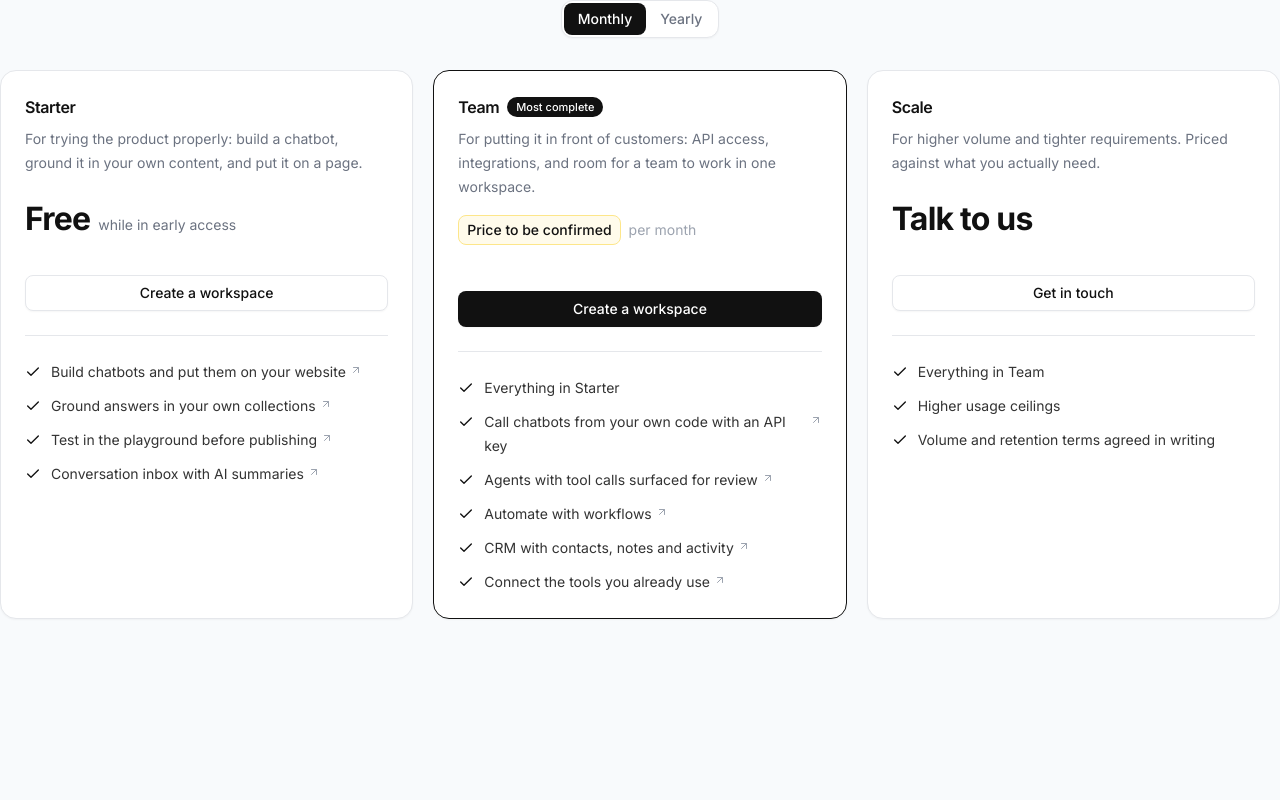
Test: pricing grid › switches the displayed interval
This screenshot has width=1280, height=800.
Click the radio button labelled "Yearly": [681, 18] box x1=660 y1=10 x2=702 y2=27
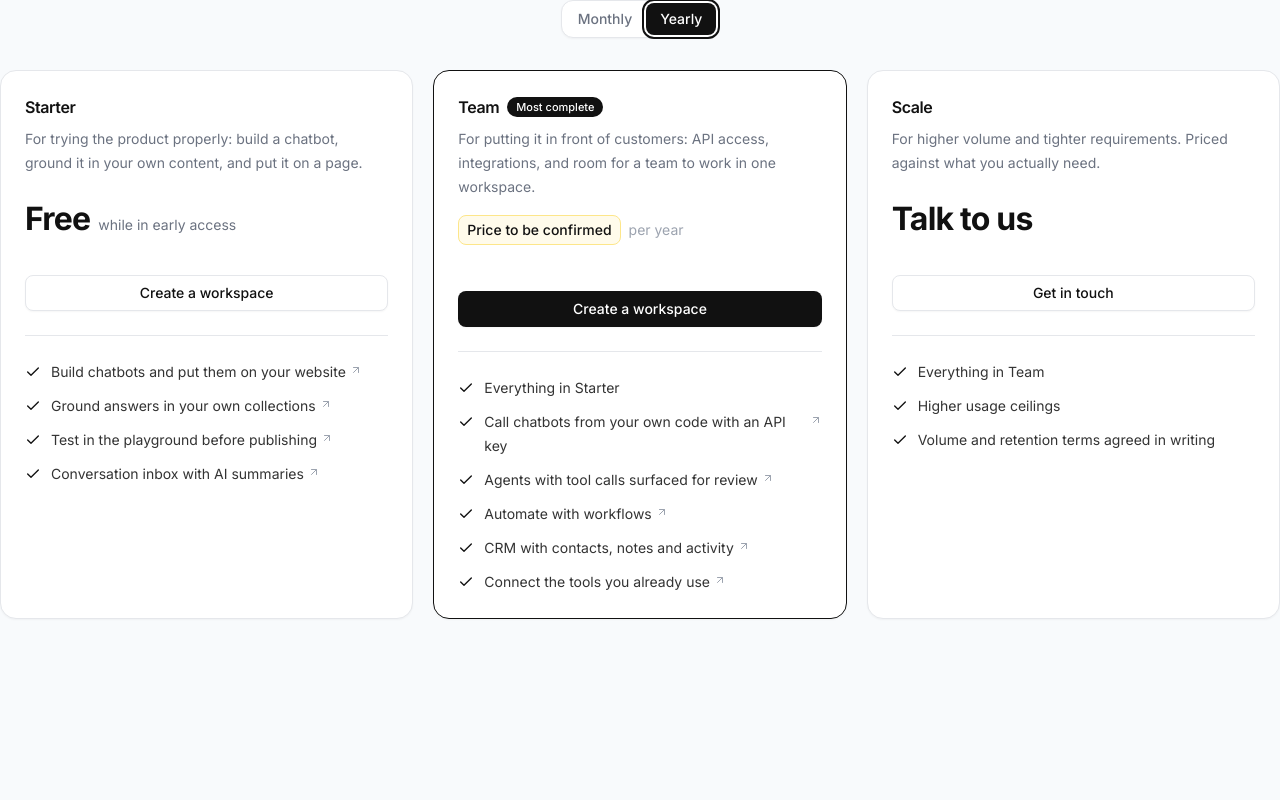
Now the radio button labelled "Yearly" is checked, box x1=646 y1=3 x2=716 y2=35
Now the text "per year" is shown, box x1=629 y1=220 x2=684 y2=240
Now the text "per month" is gone
